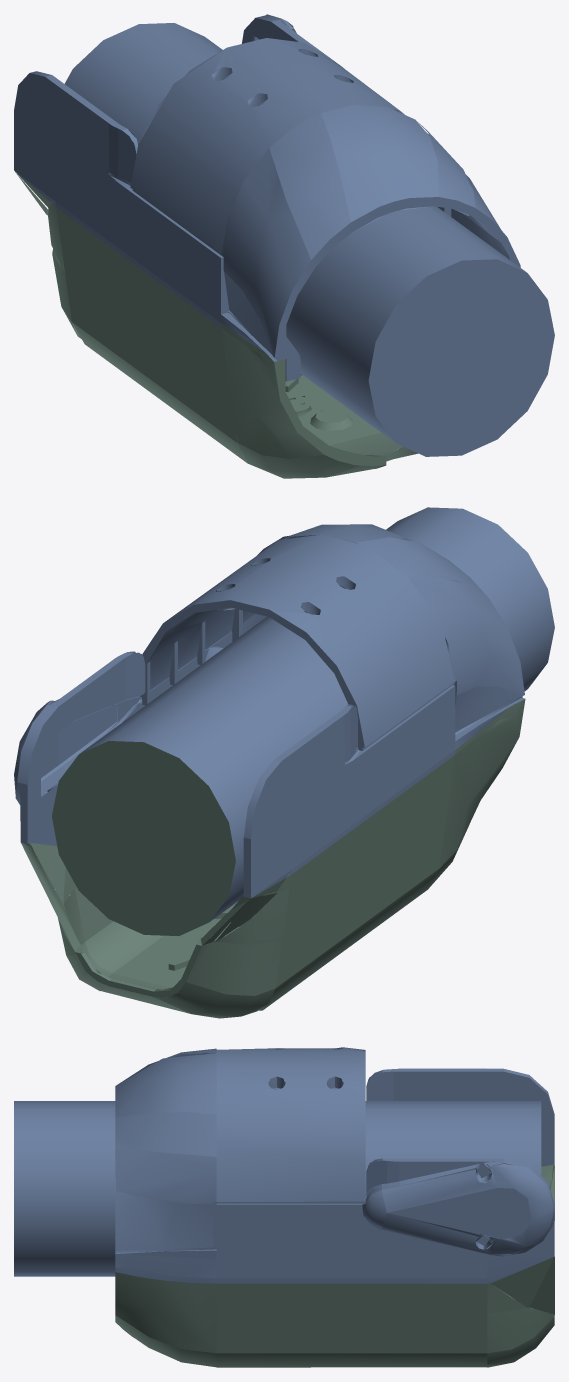
Rendered from icub_r_arm.dae.
3 views of the same model, one above another, from view 1: azimuth 30°, elevation 25°; view 2: azimuth 150°, elevation 25°; view 3: azimuth 270°, elevation 25° (orthographic). The views are drawn at different scales.
Parts seen in each view (by area): view 1: r_upperarm_mesh, r_arm_cyl_mesh; view 2: r_upperarm_mesh, r_arm_cyl_mesh; view 3: r_upperarm_mesh, r_arm_cyl_mesh.
Boxes of the visible parts, x1,y1,x2,y2 form: r_upperarm_mesh: (14, 14, 520, 478); r_arm_cyl_mesh: (64, 23, 554, 456); r_upperarm_mesh: (14, 524, 525, 1018); r_arm_cyl_mesh: (52, 507, 554, 935); r_upperarm_mesh: (115, 1047, 554, 1367); r_arm_cyl_mesh: (14, 1101, 541, 1276).
Size of the model in its own units: 0.0716 by 0.0916 by 0.1601.
